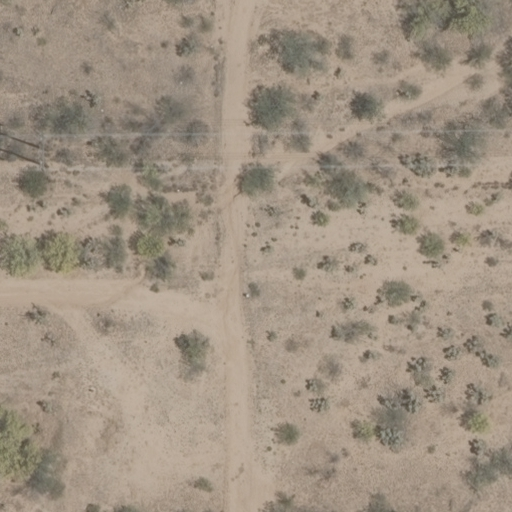DT: (22, 133, 54, 176)
